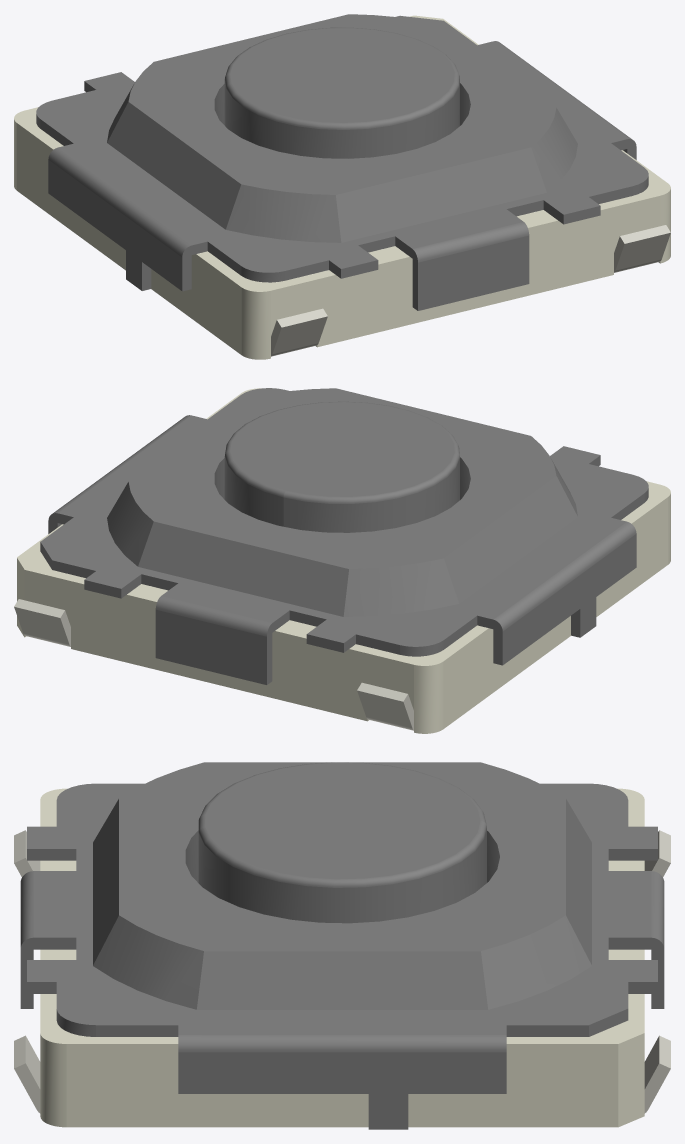
Rendered from kc-sw_spst_panasonic_evqpl_3pl_5pl_pt_a15.glb.
3 views of the same model, one above another, from view 1: azimuth 30°, elevation 25°; view 2: azimuth 150°, elevation 25°; view 3: azimuth 270°, elevation 25° (orthographic). The views are drawn at different scales.
Parts seen in each view (by area): view 1: 0.25_0.25_0.25_0, 0.75_0.75_0.6666666666666666_0, 0.6666666666666666_0.6666666666666666_0.5833333333333334_0.8; view 2: 0.25_0.25_0.25_0, 0.75_0.75_0.6666666666666666_0, 0.6666666666666666_0.6666666666666666_0.5833333333333334_0.8; view 3: 0.25_0.25_0.25_0, 0.75_0.75_0.6666666666666666_0, 0.6666666666666666_0.6666666666666666_0.5833333333333334_0.8.
Part boxes in pixels (x1,y1,x2,y2): 0.25_0.25_0.25_0: (36,14,648,310); 0.75_0.75_0.6666666666666666_0: (14,15,670,359); 0.6666666666666666_0.6666666666666666_0.5833333333333334_0.8: (271,225,670,356); 0.25_0.25_0.25_0: (40,388,648,684); 0.75_0.75_0.6666666666666666_0: (17,388,670,733); 0.6666666666666666_0.6666666666666666_0.5833333333333334_0.8: (14,599,413,730); 0.25_0.25_0.25_0: (20,762,664,1129); 0.75_0.75_0.6666666666666666_0: (40,788,644,1127); 0.6666666666666666_0.6666666666666666_0.5833333333333334_0.8: (14,830,670,1113).
Bounding box in the file's own units: 0.49 × 0.15 × 0.5.
